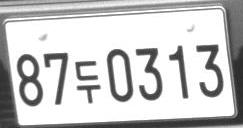0: (106, 48, 133, 102)
1: (168, 45, 193, 99)
3: (195, 44, 224, 98), (135, 47, 163, 101)
7: (43, 52, 68, 104)
8: (16, 53, 42, 106)
두: (75, 60, 101, 102)
